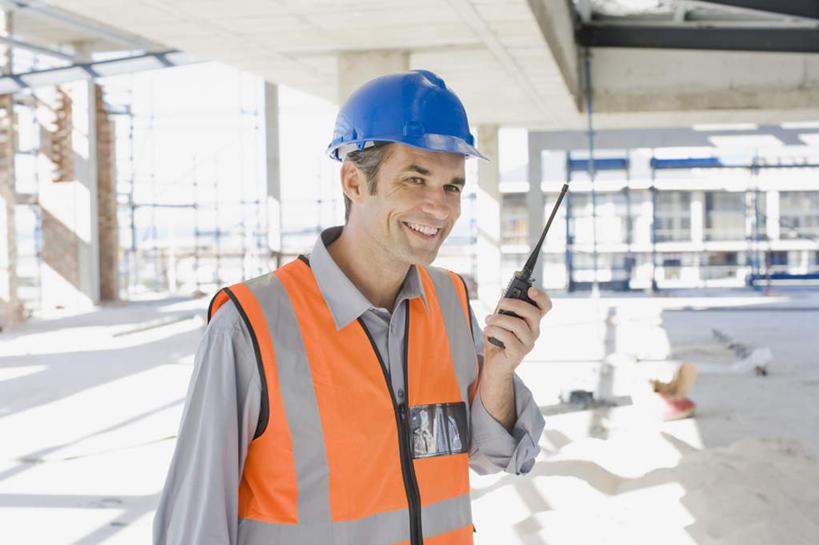helmet: (327, 69, 490, 166)
